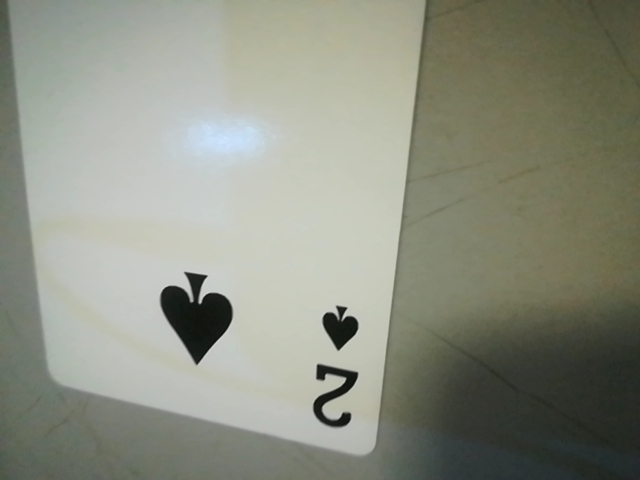ht 2: (296, 286, 379, 441)
